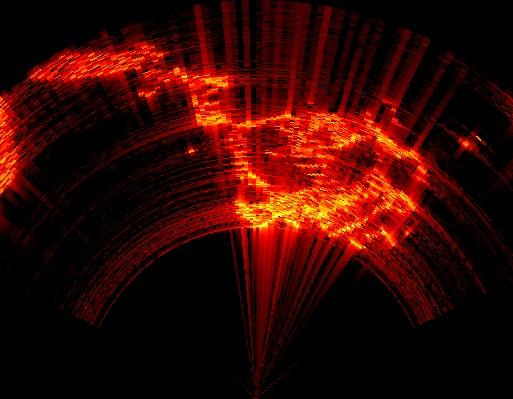shipwreck: (143, 67, 426, 249), (63, 42, 162, 82), (31, 48, 80, 81)
